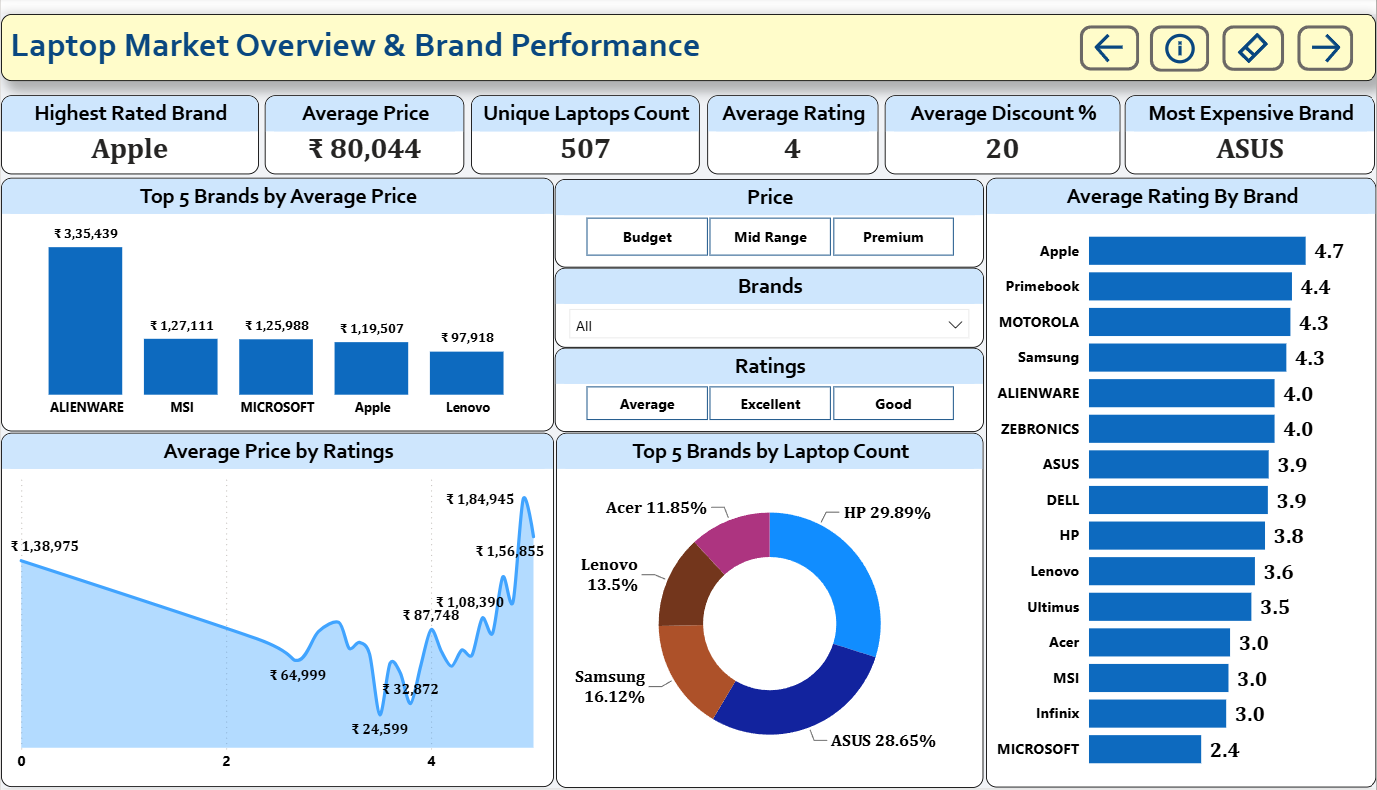

The dashboard page shown, as its layout file describes it:
{"tool":"powerbi","page":{"name":"Dashboard 1","canvas":[1280,720],"ordinal":2},"visuals":[{"type":"textbox","box":[0,0,1280,62.7],"z":0},{"type":"card","title":"Unique Laptops Count","fields":{"Values":["Count(Flipcart_WS_Use.Product)"]},"box":[437.8,75.8,212.8,73.4],"z":1000},{"type":"card","title":"Average Price ","fields":{"Values":["Avg(Flipcart_WS_Use.Price)"]},"box":[245.8,75.8,185.9,73.4],"z":2000},{"type":"card","title":"Average Rating","fields":{"Values":["Avg(Flipcart_WS_Use.Ratings)"]},"box":[656.7,75.8,159,73.4],"z":3000},{"type":"card","title":"Average Discount %","fields":{"Values":["Avg(Flipcart_WS_Use.Discount)"]},"box":[821.7,75.8,218.9,73.4],"z":4000},{"type":"card","title":"Most Expensive Brand","fields":{"Values":["Min(Flipcart_WS_Use.Brand Name)"]},"box":[1045.5,75.8,233.6,73.4],"z":5000},{"type":"card","title":"Highest Rated Brand","fields":{"Values":["Min(Flipcart_WS_Use.Brand Name)"]},"box":[0,75.8,239.7,73.4],"z":6000},{"type":"donutChart","title":" Top 5 Brands by Laptop Count","fields":{"Y":["CountNonNull(Flipcart_WS_Use.Product)"],"Category":["Flipcart_WS_Use.Brand Name"]},"box":[516,389.7,397.9,330.7],"z":7000},{"type":"columnChart","title":" Top 5 Brands by Average Price","fields":{"Category":["Flipcart_WS_Use.Brand Name"],"Y":["Avg(Flipcart_WS_Use.Price)"]},"box":[0,152.3,514.6,236],"z":8000},{"type":"clusteredBarChart","title":"Average Rating By Brand","fields":{"Category":["Flipcart_WS_Use.Brand Name"],"Y":["Avg(Flipcart_WS_Use.Ratings)"]},"box":[916,152.5,364,567.4],"z":9000},{"type":"areaChart","title":"Average Price by Ratings","fields":{"Category":["Flipcart_WS_Use.Ratings"],"Y":["Avg(Flipcart_WS_Use.Price)"]},"box":[0,389.7,514.6,329.3],"z":10000},{"type":"slicer","title":"Brands","fields":{"Values":["Flipcart_WS_Use.Brand Name"]},"box":[514.6,236,399.3,74.1],"z":11000},{"type":"slicer","title":"Ratings","fields":{"Values":["Flipcart_WS_Use.Rating Category"]},"box":[514.6,310.1,399.3,78.2],"z":12000},{"type":"slicer","title":"Price","fields":{"Values":["Flipcart_WS_Use.Price Category"]},"box":[514.6,153.7,399.3,82.3],"z":13000},{"type":"actionButton","box":[1136.2,11,57.6,42.5],"z":14000},{"type":"actionButton","box":[1003.8,10.9,55.5,42.2],"z":15000},{"type":"actionButton","box":[1206.2,11,52.1,42.5],"z":16000},{"type":"actionButton","box":[1068.9,10.9,55.5,43.4],"z":17000}]}

Visuals, with their boxes in screenshot pixels (x1, y1, x2, y2), scaled from the page's 1280x720 canvas onto the 1377x790 screenshot:
textbox: bbox=(0, 0, 1376, 69)
"Unique Laptops Count" card: bbox=(471, 83, 700, 164)
"Average Price " card: bbox=(264, 83, 464, 164)
"Average Rating" card: bbox=(706, 83, 878, 164)
"Average Discount %" card: bbox=(884, 83, 1119, 164)
"Most Expensive Brand" card: bbox=(1125, 83, 1376, 164)
"Highest Rated Brand" card: bbox=(0, 83, 258, 164)
" Top 5 Brands by Laptop Count" donutChart: bbox=(555, 428, 983, 789)
" Top 5 Brands by Average Price" columnChart: bbox=(0, 167, 554, 426)
"Average Rating By Brand" clusteredBarChart: bbox=(985, 167, 1376, 789)
"Average Price by Ratings" areaChart: bbox=(0, 428, 554, 789)
"Brands" slicer: bbox=(554, 259, 983, 340)
"Ratings" slicer: bbox=(554, 340, 983, 426)
"Price" slicer: bbox=(554, 169, 983, 259)
actionButton: bbox=(1222, 12, 1284, 59)
actionButton: bbox=(1080, 12, 1140, 58)
actionButton: bbox=(1298, 12, 1354, 59)
actionButton: bbox=(1150, 12, 1210, 60)
